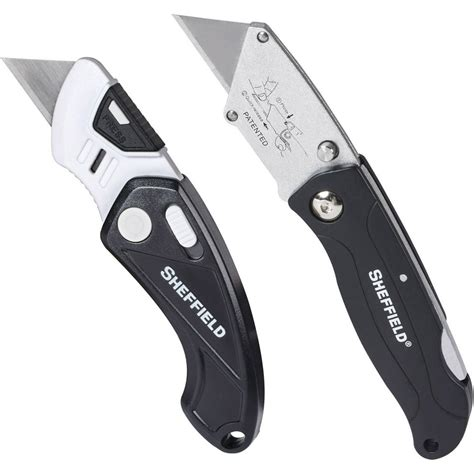knife: (171, 11, 470, 460), (1, 57, 266, 455)
